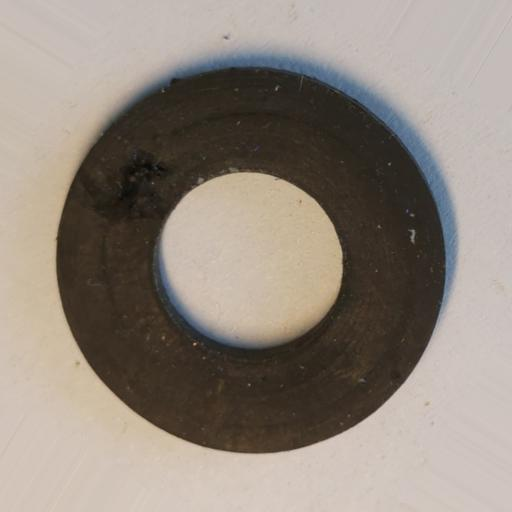defect: (96, 149, 168, 225)
